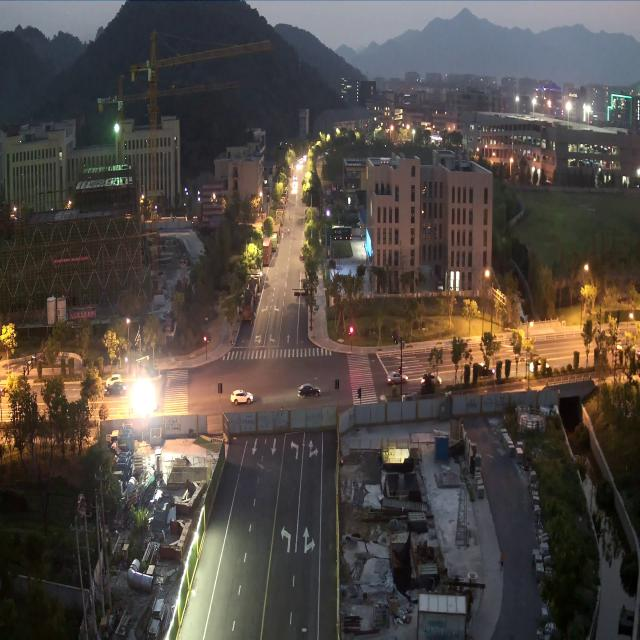drone: (276, 141, 288, 150)
